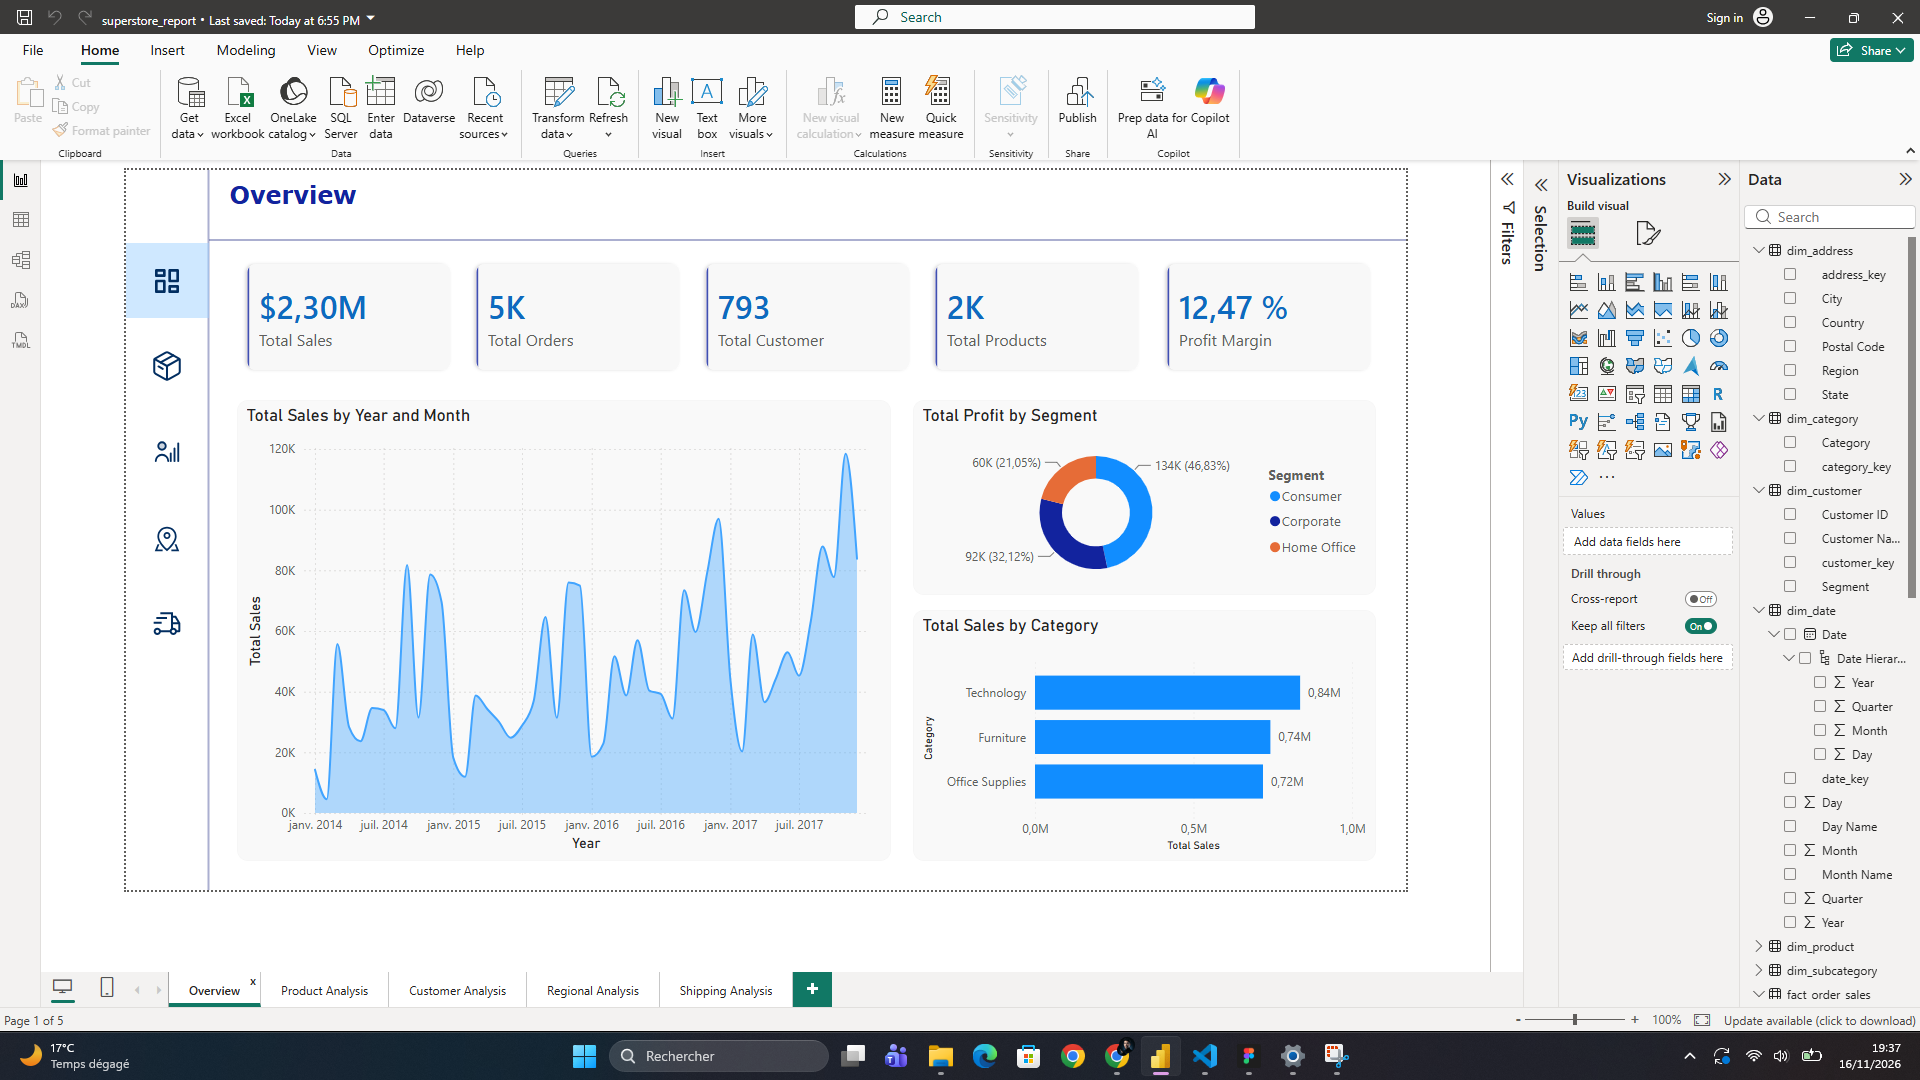

The page's visual inventory and layout, read from the dashboard file:
{"tool":"powerbi","page":{"name":"Overview","canvas":[1280,720],"ordinal":0},"visuals":[{"type":"shape","box":[83,0,1197,140],"z":0},{"type":"actionButton","title":"Product analysis","box":[0,158,83,75],"z":1000},{"type":"actionButton","title":"Product analysis","box":[0,243,83,76],"z":2000},{"type":"actionButton","title":"Product analysis","box":[0,330,83,77],"z":3000},{"type":"actionButton","title":"Product analysis","box":[0,417,83,71],"z":4000},{"type":"cardVisual","fields":{"Data":["fact_order_sales.Total_sales"]},"box":[99,72,248,150],"z":5000},{"type":"cardVisual","fields":{"Data":["fact_order_sales.Total_orders"]},"box":[328,72,248,150],"z":6000},{"type":"cardVisual","fields":{"Data":["fact_order_sales.Total_customer"]},"box":[558,72,248,150],"z":7000},{"type":"cardVisual","title":"Total Products","fields":{"Data":["fact_order_sales.Total_products"]},"box":[787,72,248,150],"z":8000},{"type":"areaChart","title":"Total Sales by Year and Month","fields":{"Category":["dim_date.Date.Variation.Date Hierarchy.Year","dim_date.Date.Variation.Date Hierarchy.Month"],"Y":["fact_order_sales.Total_sales"]},"box":[111,230,654,461],"z":9000},{"type":"barChart","title":"Total Sales by Category","fields":{"Category":["dim_category.Category"],"Y":["fact_order_sales.Total_sales"]},"box":[787,440,463,251],"z":10000},{"type":"donutChart","fields":{"Y":["fact_order_sales.Total_profit"],"Category":["dim_customer.Segment"]},"box":[787,230,463,195],"z":11000},{"type":"textbox","box":[99,5,180,54],"z":12000},{"type":"cardVisual","title":"Total Products","fields":{"Data":["fact_order_sales.Profit_margin"]},"box":[1019,72,248,150],"z":13000},{"type":"shape","box":[59,0,47,720],"z":14000},{"type":"actionButton","title":"Product analysis","box":[0,73,83,75],"z":15000}]}

Visuals, with their boxes on the page's 1280x720 design canvas (x1, y1, x2, y2). These are canvas units, not pixel positions in the 1920x1080 screenshot, which may show the page scaled, cropped or inside an application window:
shape: {"left": 83, "top": 0, "right": 1280, "bottom": 140}
"Product analysis" actionButton: {"left": 0, "top": 158, "right": 83, "bottom": 233}
"Product analysis" actionButton: {"left": 0, "top": 243, "right": 83, "bottom": 319}
"Product analysis" actionButton: {"left": 0, "top": 330, "right": 83, "bottom": 407}
"Product analysis" actionButton: {"left": 0, "top": 417, "right": 83, "bottom": 488}
cardVisual - fact_order_sales.Total_sales: {"left": 99, "top": 72, "right": 347, "bottom": 222}
cardVisual - fact_order_sales.Total_orders: {"left": 328, "top": 72, "right": 576, "bottom": 222}
cardVisual - fact_order_sales.Total_customer: {"left": 558, "top": 72, "right": 806, "bottom": 222}
"Total Products" cardVisual: {"left": 787, "top": 72, "right": 1035, "bottom": 222}
"Total Sales by Year and Month" areaChart: {"left": 111, "top": 230, "right": 765, "bottom": 691}
"Total Sales by Category" barChart: {"left": 787, "top": 440, "right": 1250, "bottom": 691}
donutChart - fact_order_sales.Total_profit x dim_customer.Segment: {"left": 787, "top": 230, "right": 1250, "bottom": 425}
textbox: {"left": 99, "top": 5, "right": 279, "bottom": 59}
"Total Products" cardVisual: {"left": 1019, "top": 72, "right": 1267, "bottom": 222}
shape: {"left": 59, "top": 0, "right": 106, "bottom": 720}
"Product analysis" actionButton: {"left": 0, "top": 73, "right": 83, "bottom": 148}
